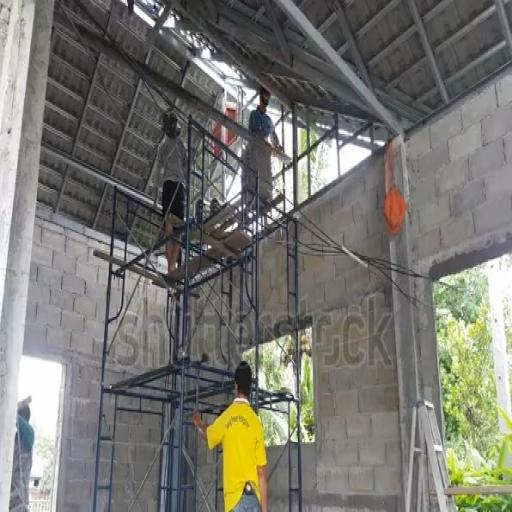head and helmet: (235, 362, 252, 399), (164, 110, 181, 138), (260, 87, 270, 112), (18, 404, 30, 422)
